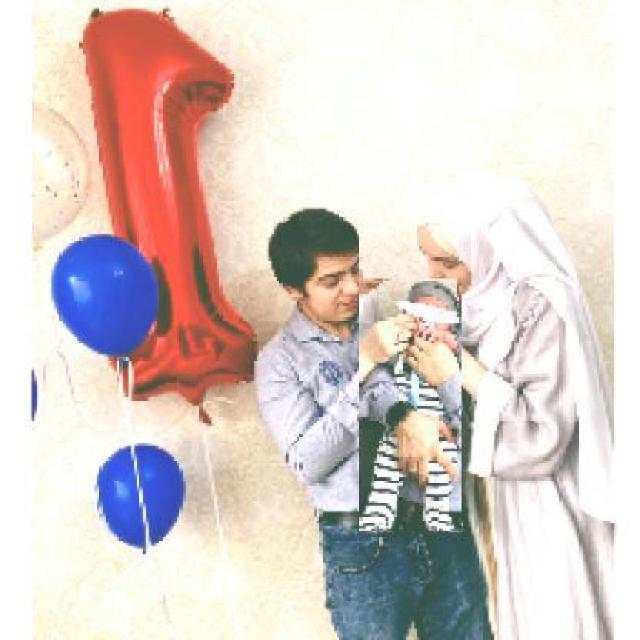child: (358, 278, 462, 532)
